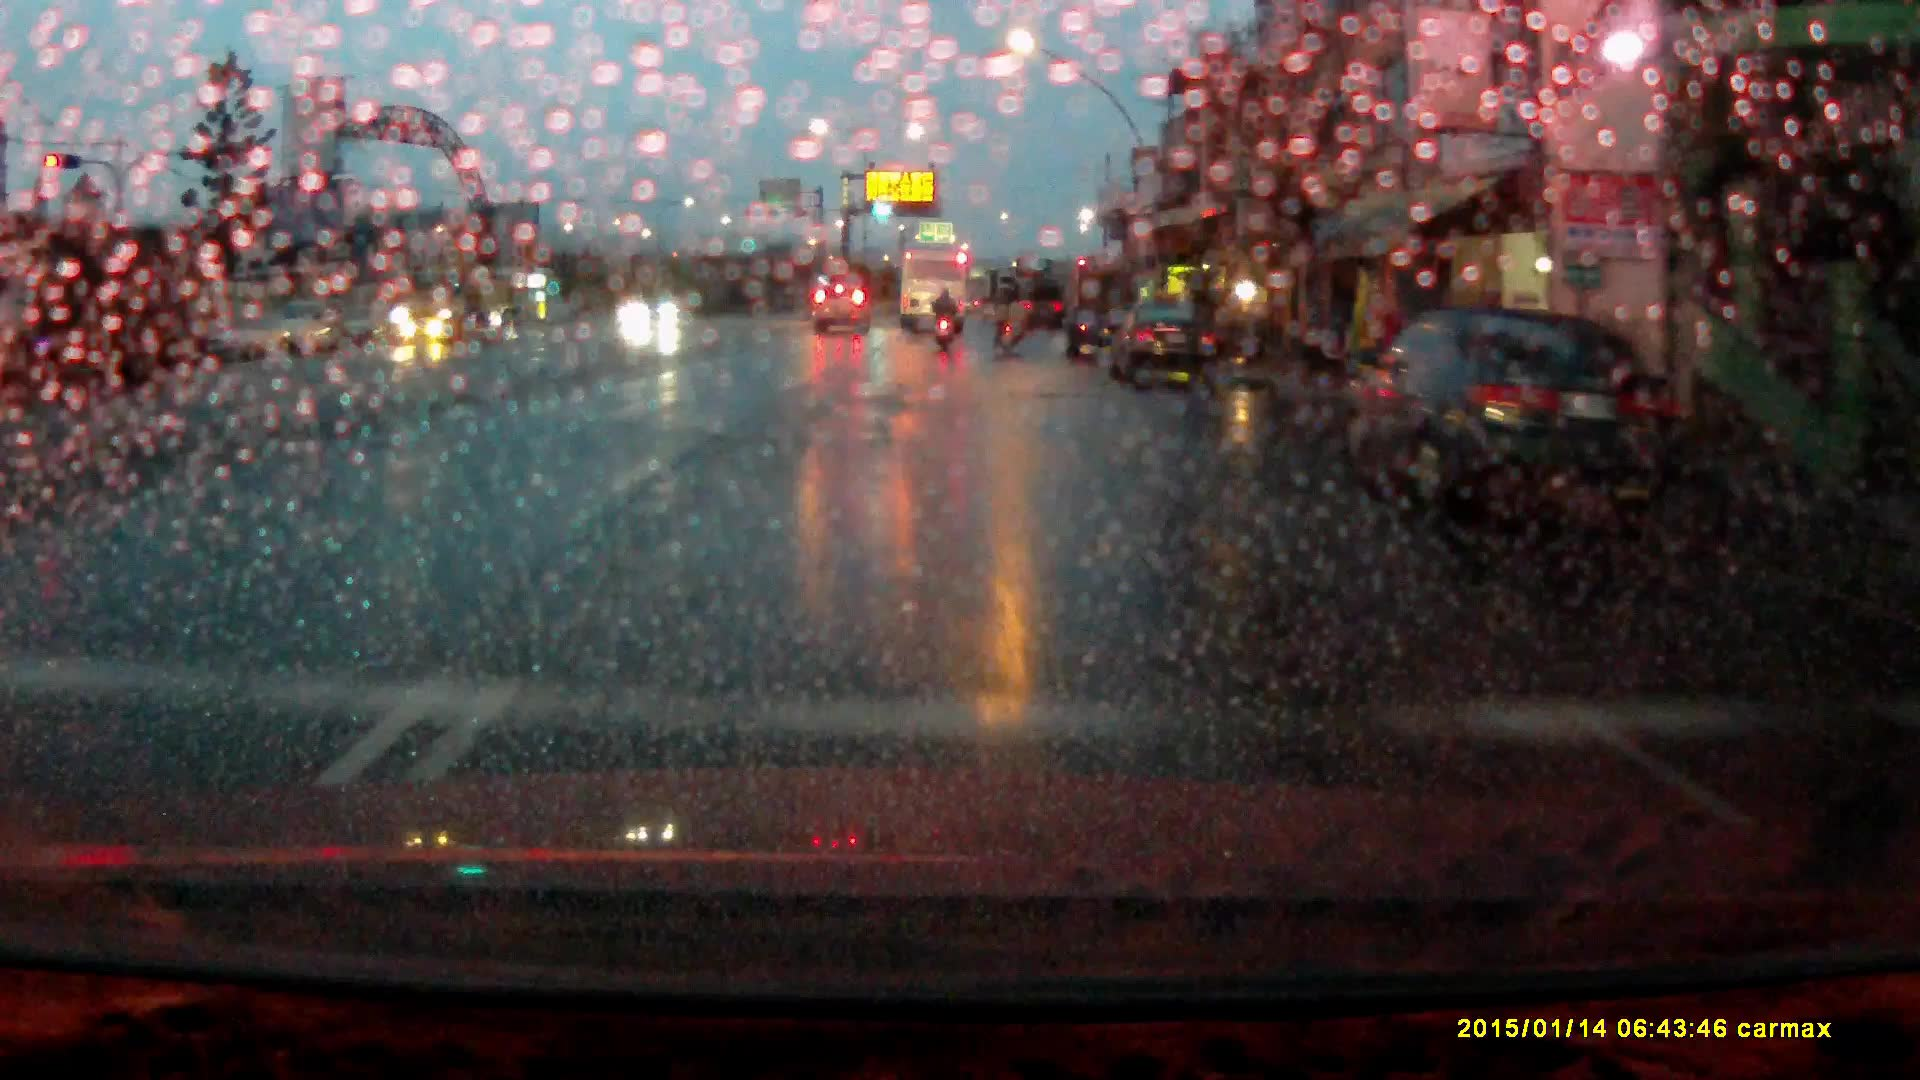rider: (932, 288, 960, 351)
vehicle: (1351, 314, 1666, 526), (1, 242, 211, 396), (388, 265, 523, 343), (1112, 306, 1219, 388), (1064, 265, 1141, 363), (899, 245, 971, 332), (213, 314, 290, 363), (1015, 263, 1069, 331), (811, 283, 875, 337), (274, 303, 346, 352), (631, 293, 682, 328)
